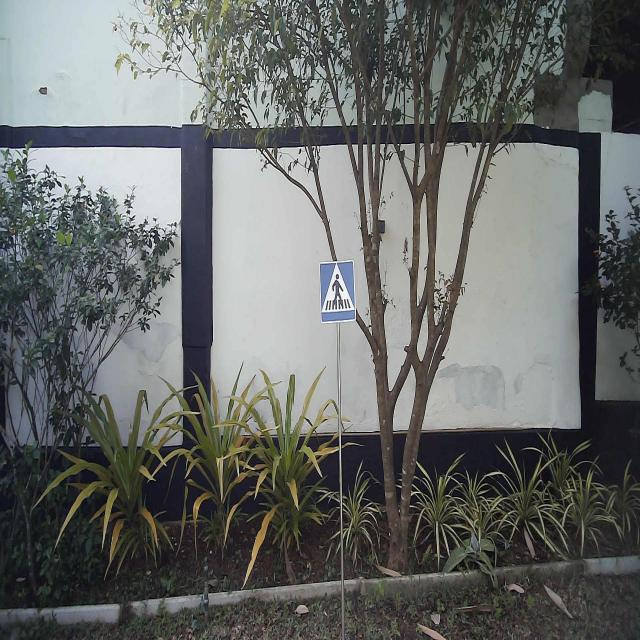crosswalk_sign: (318, 258, 357, 326)
